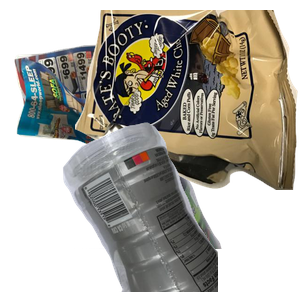glass: (66, 120, 300, 300)
paper: (12, 31, 196, 204)
plastic: (60, 120, 300, 300)
trash: (75, 10, 300, 190)
